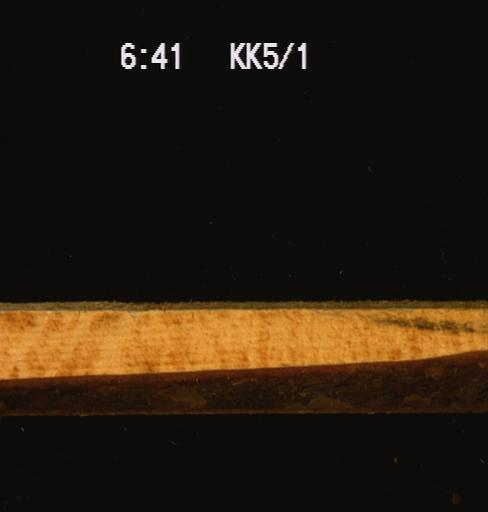wave: (0, 348, 487, 413)
